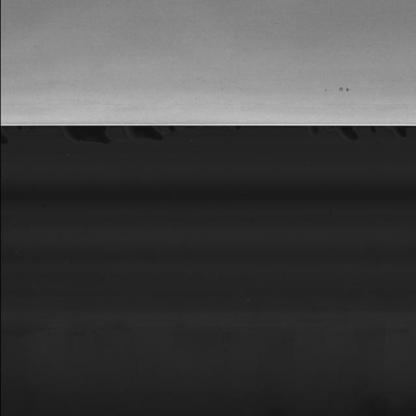inclusion: (320, 84, 355, 95)
